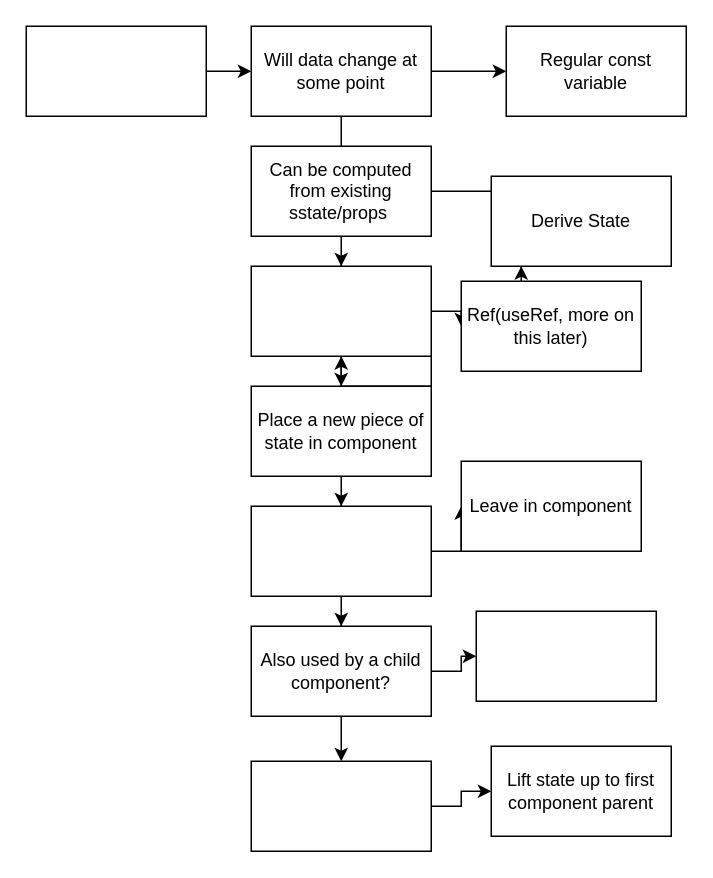
The diagram is 713 pixels wide and 878 high, and some of its shapes have lost their labels. Here are the shapes that lost their labels. From the top down, the centre of each, then its label:
At point (115, 70): "Need To Store data".
At point (340, 310): "Should it re-render component".
At point (340, 550): "Only used by this component ?".
At point (565, 655): "Pass to child via props".
At point (340, 805): "Used by one or a few sibling component".
